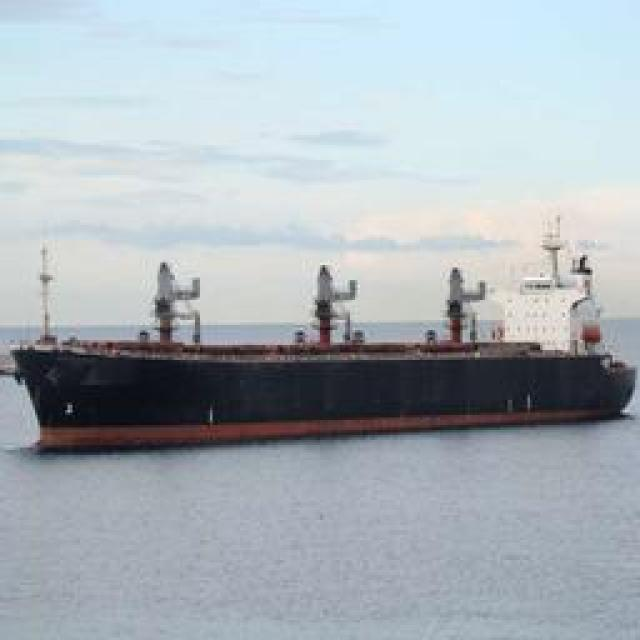CIV_Ship: (7, 245, 635, 440)
